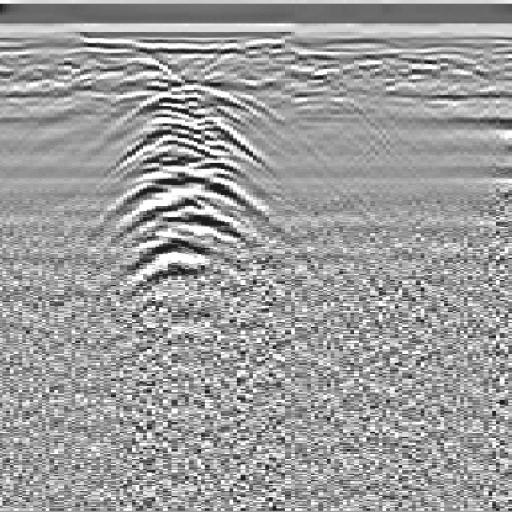metalic: (66, 52, 296, 338)
